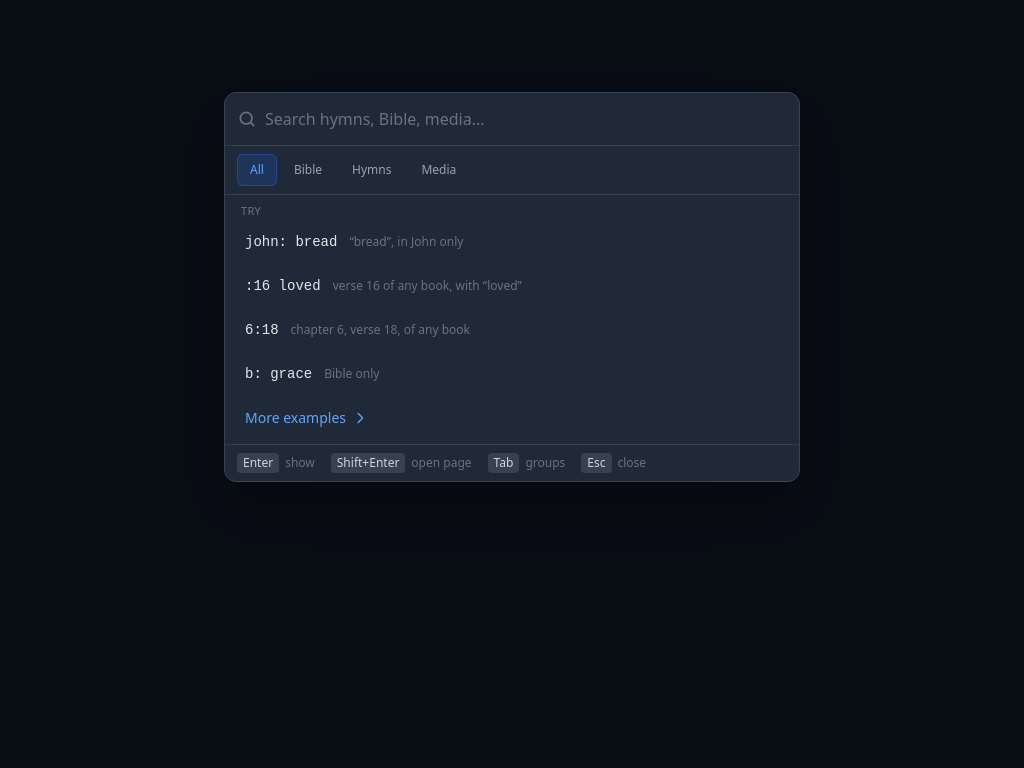
Test: QuickSearch syntax › fills in an example when it's picked, scope and all
The width and height of the screenshot is (1024, 768).
Click the text "b: grace" at [279, 374], box [245,364,312,384]
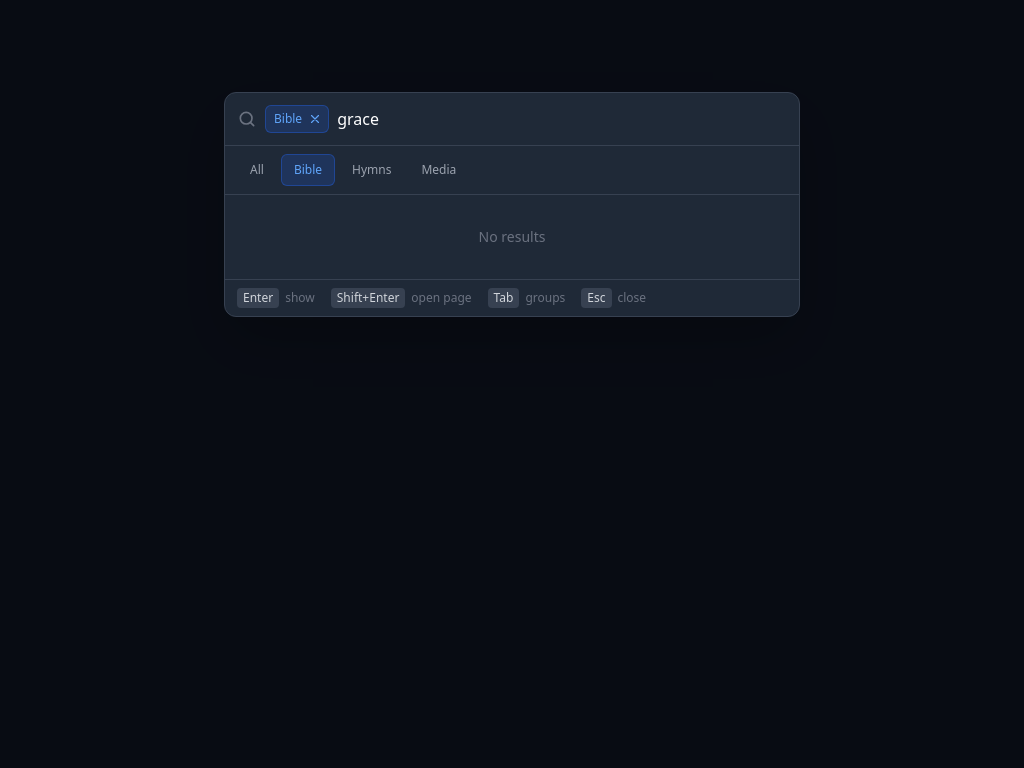
Expected: the button "Bible" is shown, [281,154,335,186]
Now the field holds "grace", box [337,93,787,145]
